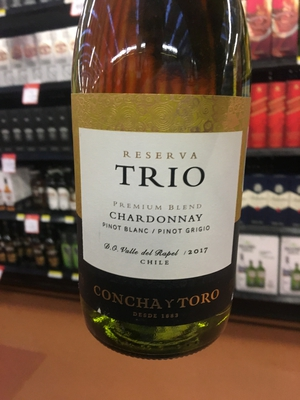trio chardonnay: (60, 18, 259, 349)
